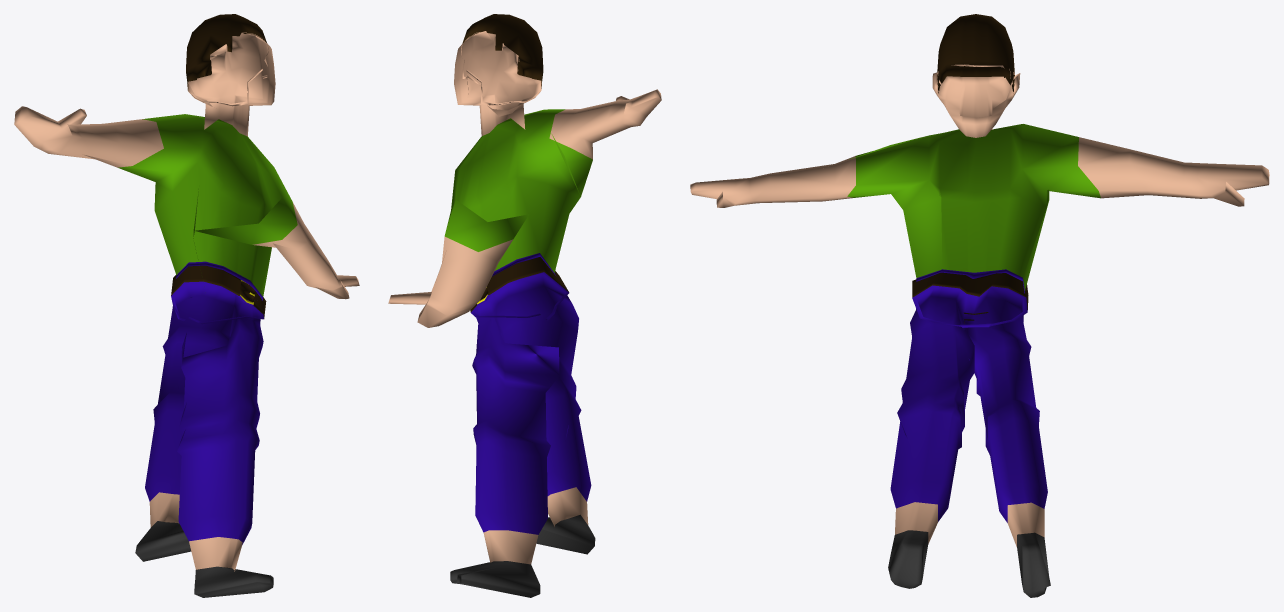
File: crowd_character.gltf
3 views of the same model, side by side, from view 1: azimuth 30°, elevation 25°; view 2: azimuth 150°, elevation 25°; view 3: azimuth 270°, elevation 25° (orthographic). The views are drawn at different scales.
Visible parts, largest first — view 1: Cube; view 2: Cube; view 3: Cube.
Part boxes in pixels (x1,y1,x2,y2): Cube: [14, 14, 359, 597]; Cube: [388, 14, 661, 597]; Cube: [690, 14, 1269, 597].
Bounding box in the file's own units: 2.37 × 10.17 × 9.42.
